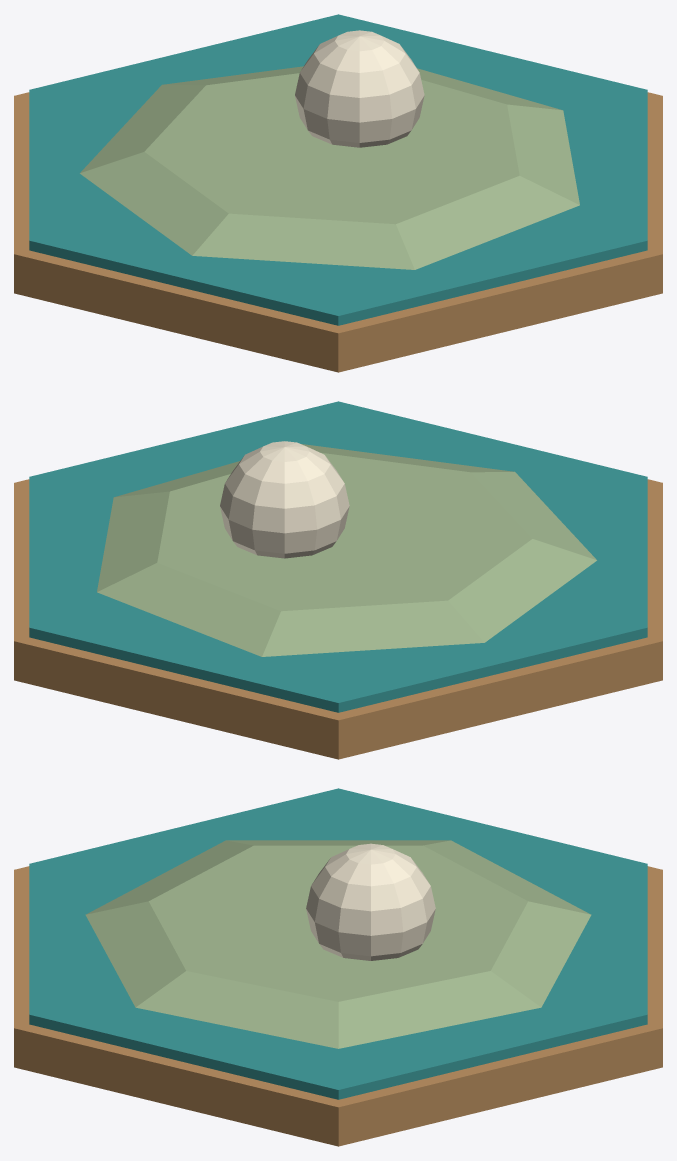
Rendered from tabletop-game-components-hex-island-d505ebf5__20861.glb.
3 renders of one model, top to bottom at view 1: azimuth 30°, elevation 25°; view 2: azimuth 150°, elevation 25°; view 3: azimuth 270°, elevation 25°, orthographic.
Parts seen in each view (by area): view 1: hex-island; view 2: hex-island; view 3: hex-island.
Boxes of the visible parts, x1,y1,x2,y2 form: hex-island: (14,14,662,372); hex-island: (14,401,662,759); hex-island: (14,788,662,1146).
Bounding box in the file's own units: 0.0693 × 0.016 × 0.06.
